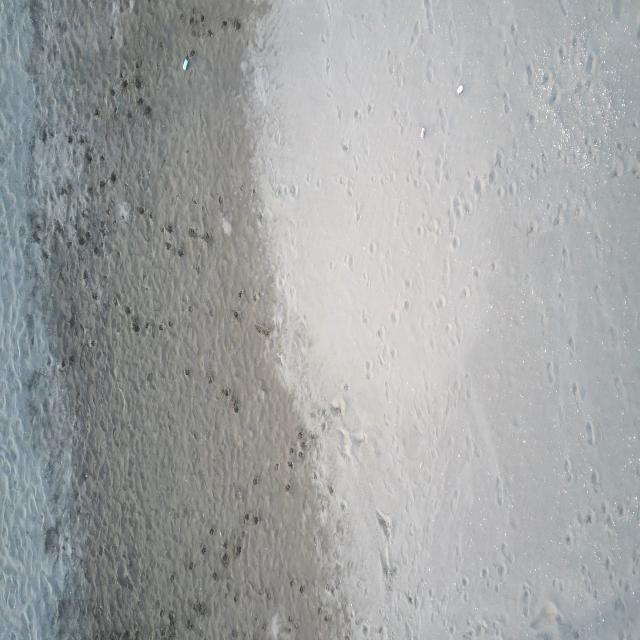tin-and-aluminum-cans: (182, 57, 189, 72), (457, 84, 464, 96), (420, 127, 425, 141)
